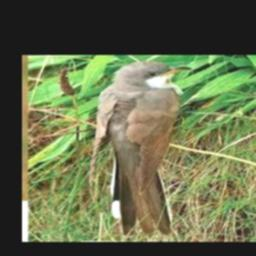Cuckoo: (94, 61, 192, 233)
